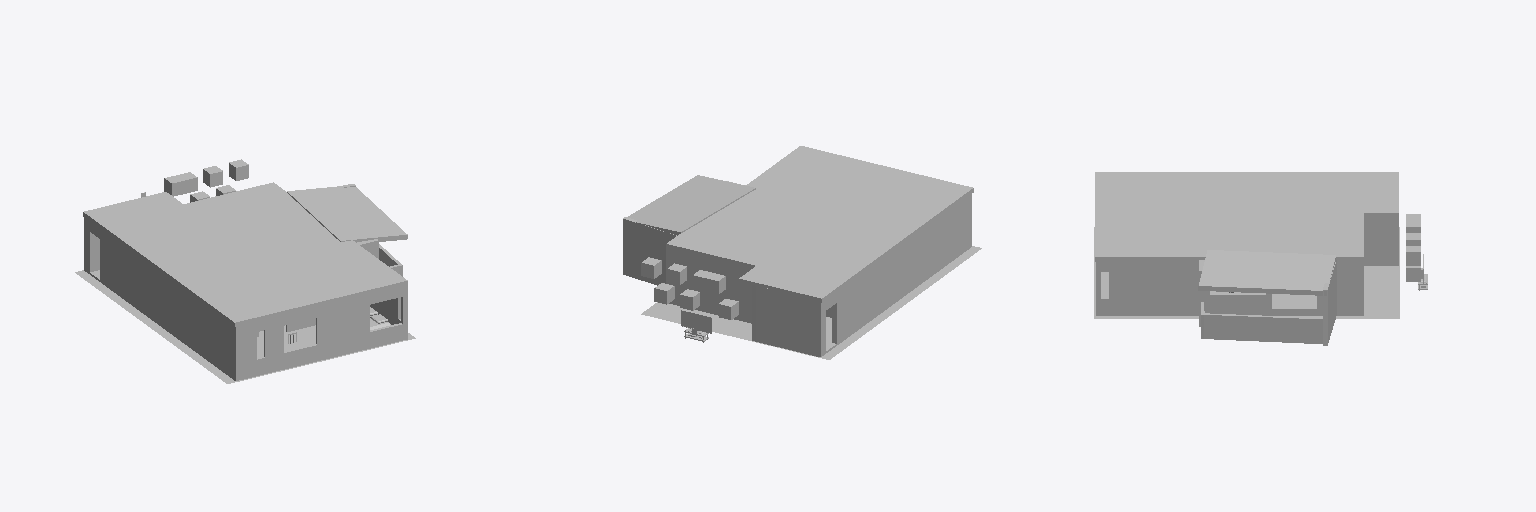
The model's file is OttoBrandt_2019-01-15_2.obj.
3 views of the same model, side by side, from view 1: azimuth 30°, elevation 25°; view 2: azimuth 150°, elevation 25°; view 3: azimuth 270°, elevation 25° (orthographic).
Parts seen in each view (by area): view 1: roof_Cube.002, wall_outer_Cube, Plane; view 2: roof_Cube.002, wall_outer_Cube, Plane, bedroom_desk.001_Cube.016; view 3: roof_Cube.002, wall_outer_Cube, Plane.
Part boxes in pixels (left/top/right/bottom): roof_Cube.002: left=83, top=182, right=407, bottom=326; wall_outer_Cube: left=84, top=184, right=407, bottom=380; Plane: left=75, top=270, right=415, bottom=383; roof_Cube.002: left=628, top=146, right=973, bottom=302; wall_outer_Cube: left=623, top=181, right=971, bottom=356; Plane: left=641, top=246, right=981, bottom=359; bedroom_desk.001_Cube.016: left=681, top=310, right=711, bottom=342; roof_Cube.002: left=1095, top=172, right=1398, bottom=295; wall_outer_Cube: left=1096, top=218, right=1398, bottom=345; Plane: left=1094, top=227, right=1399, bottom=318.
Bounding box in the file's own units: 11.35 × 2.79 × 15.05.